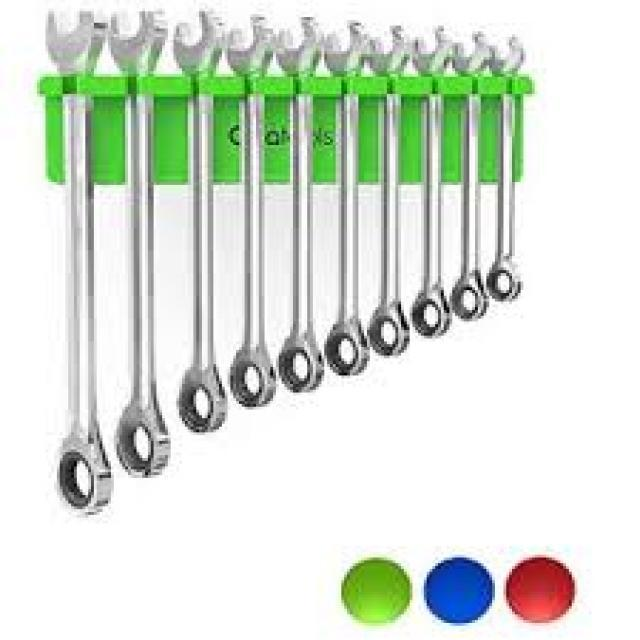wrench: (36, 3, 118, 520), (110, 0, 171, 484), (171, 4, 232, 436), (223, 10, 280, 409), (277, 13, 328, 396), (320, 18, 368, 378), (368, 20, 412, 356), (409, 20, 454, 337), (449, 19, 492, 322), (490, 32, 528, 304)
